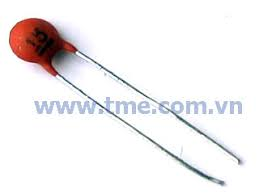ceramic capacitor: (1, 10, 129, 91)
